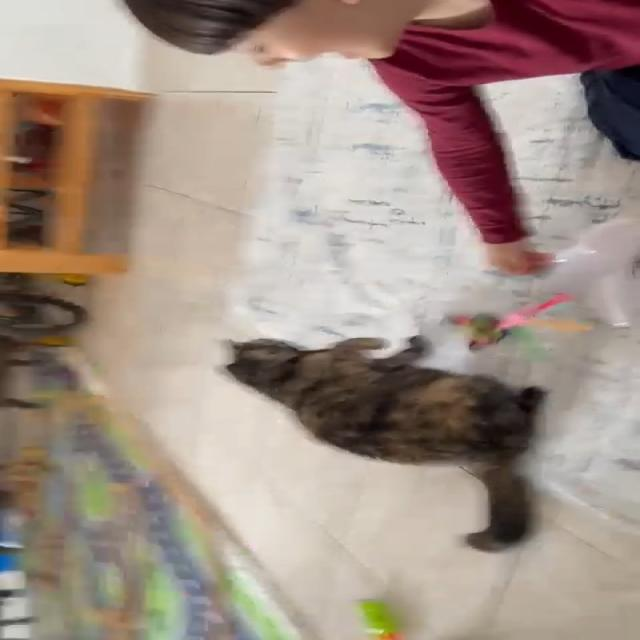authorized: (222, 334, 550, 552)
